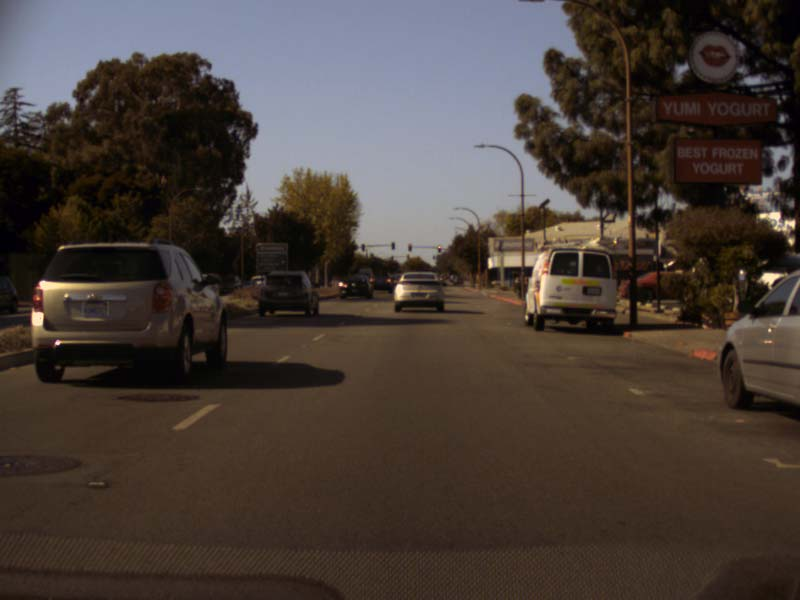Red: (437, 245, 440, 252)
